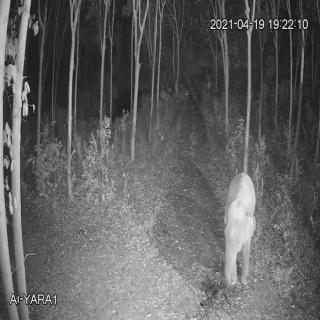Elephant: (217, 168, 260, 286)
